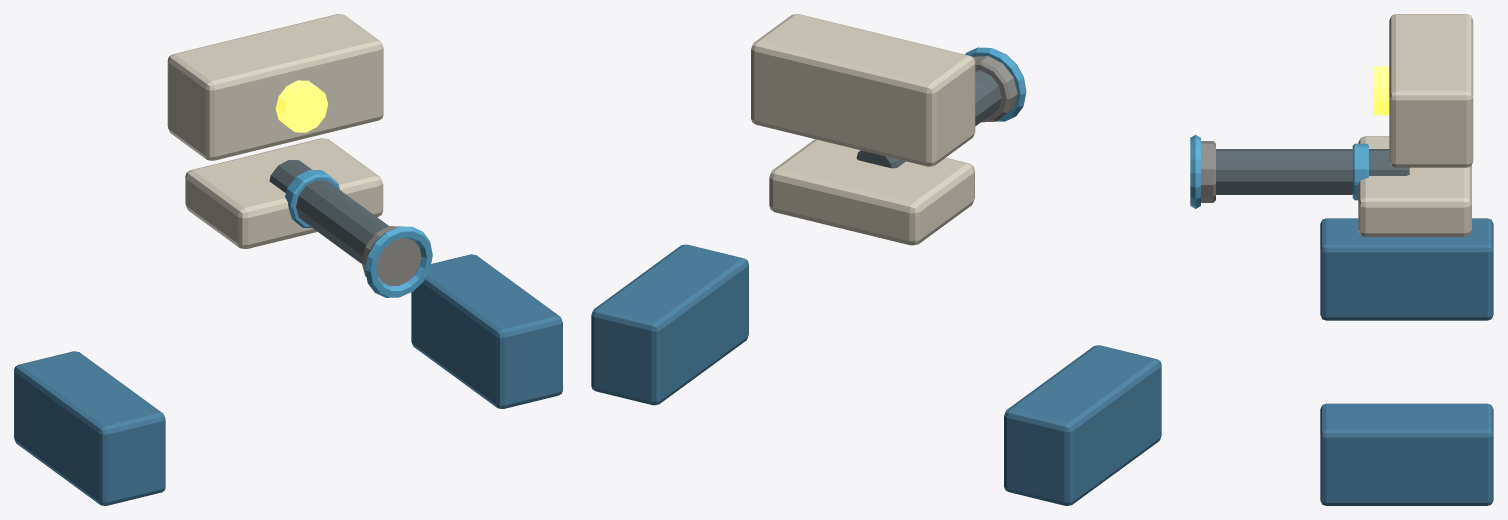
The model's file is hq_hero_balanced.glb.
3 views of the same model, side by side, from view 1: azimuth 30°, elevation 25°; view 2: azimuth 150°, elevation 25°; view 3: azimuth 270°, elevation 25° (orthographic). The views are drawn at different scales.
Visible parts, largest first — view 1: Balanced_CommandCrest, Balanced_Shoulder_L, Balanced_Shoulder_R, Balanced_TurretMount, Balanced_Cannon, Balanced_MuzzleRing, Balanced_CrestCore, Balanced_Muzzle, Balanced_CannonBand; view 2: Balanced_CommandCrest, Balanced_Shoulder_R, Balanced_Shoulder_L, Balanced_TurretMount, Balanced_Cannon, Balanced_Muzzle, Balanced_MuzzleRing; view 3: Balanced_Shoulder_R, Balanced_Shoulder_L, Balanced_CommandCrest, Balanced_TurretMount, Balanced_Cannon, Balanced_Muzzle, Balanced_CrestCore, Balanced_MuzzleRing, Balanced_CannonBand.
Boxes of the visible parts, bbox=[...] form: Balanced_CommandCrest: bbox=[167, 14, 383, 160]; Balanced_Shoulder_L: bbox=[14, 351, 165, 505]; Balanced_Shoulder_R: bbox=[411, 254, 562, 408]; Balanced_TurretMount: bbox=[185, 138, 383, 248]; Balanced_Cannon: bbox=[269, 160, 388, 263]; Balanced_MuzzleRing: bbox=[365, 226, 432, 297]; Balanced_CrestCore: bbox=[275, 80, 328, 132]; Balanced_Muzzle: bbox=[361, 226, 421, 286]; Balanced_CannonBand: bbox=[285, 169, 339, 227]; Balanced_CommandCrest: bbox=[751, 14, 975, 166]; Balanced_Shoulder_R: bbox=[591, 244, 748, 405]; Balanced_Shoulder_L: bbox=[1004, 345, 1161, 505]; Balanced_TurretMount: bbox=[769, 139, 974, 245]; Balanced_Cannon: bbox=[856, 70, 1001, 168]; Balanced_Muzzle: bbox=[973, 56, 1017, 122]; Balanced_MuzzleRing: bbox=[965, 47, 1026, 121]; Balanced_Shoulder_R: bbox=[1320, 403, 1493, 505]; Balanced_Shoulder_L: bbox=[1320, 218, 1493, 320]; Balanced_CommandCrest: bbox=[1389, 14, 1473, 167]; Balanced_TurretMount: bbox=[1358, 136, 1471, 236]; Balanced_Cannon: bbox=[1216, 149, 1409, 194]; Balanced_Muzzle: bbox=[1201, 141, 1215, 202]; Balanced_CrestCore: bbox=[1373, 66, 1389, 115]; Balanced_MuzzleRing: bbox=[1190, 134, 1200, 208]; Balanced_CannonBand: bbox=[1352, 143, 1368, 200].
Bounding box in the file's own units: 3.78 × 2.83 × 2.24.
